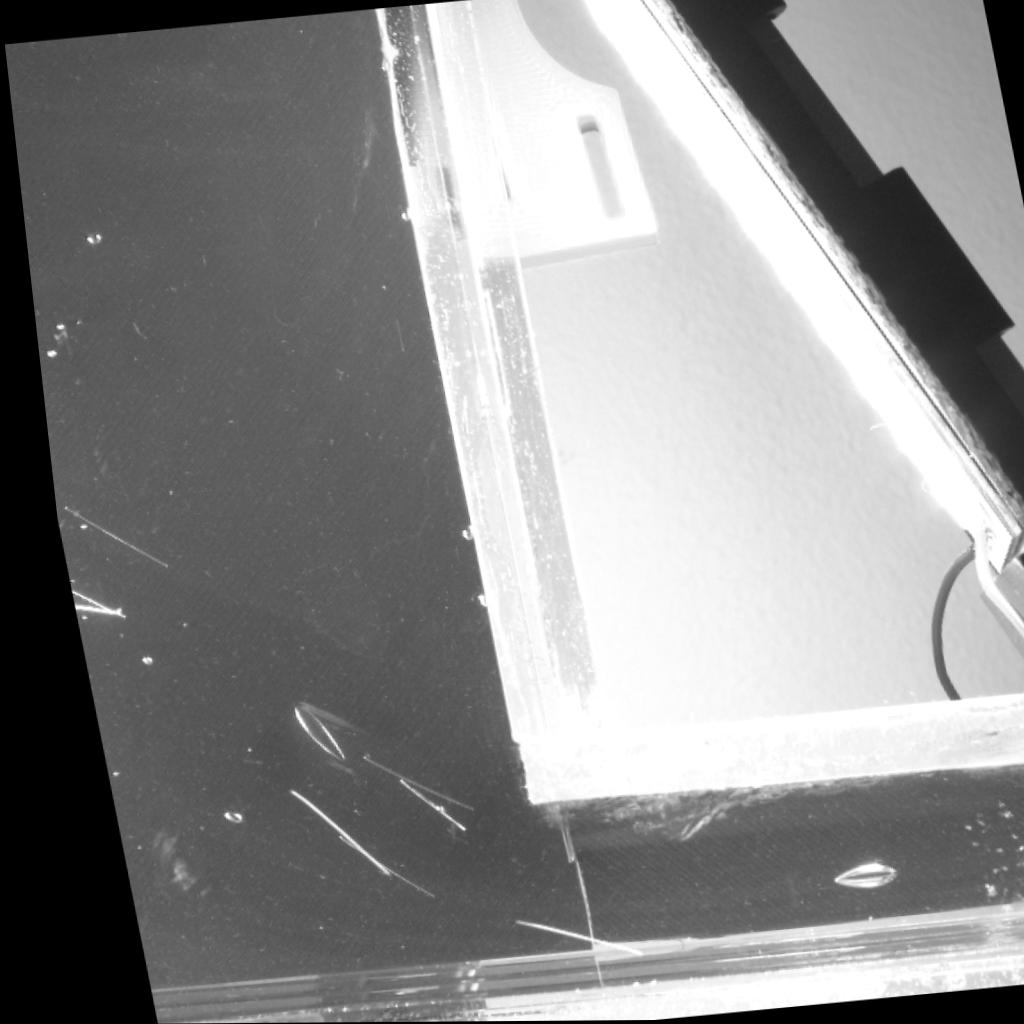Fiber: (264, 786, 373, 878), (45, 499, 156, 570), (341, 750, 456, 812), (315, 833, 414, 901), (493, 915, 623, 960), (375, 775, 451, 835), (57, 585, 118, 624), (59, 602, 111, 615)
